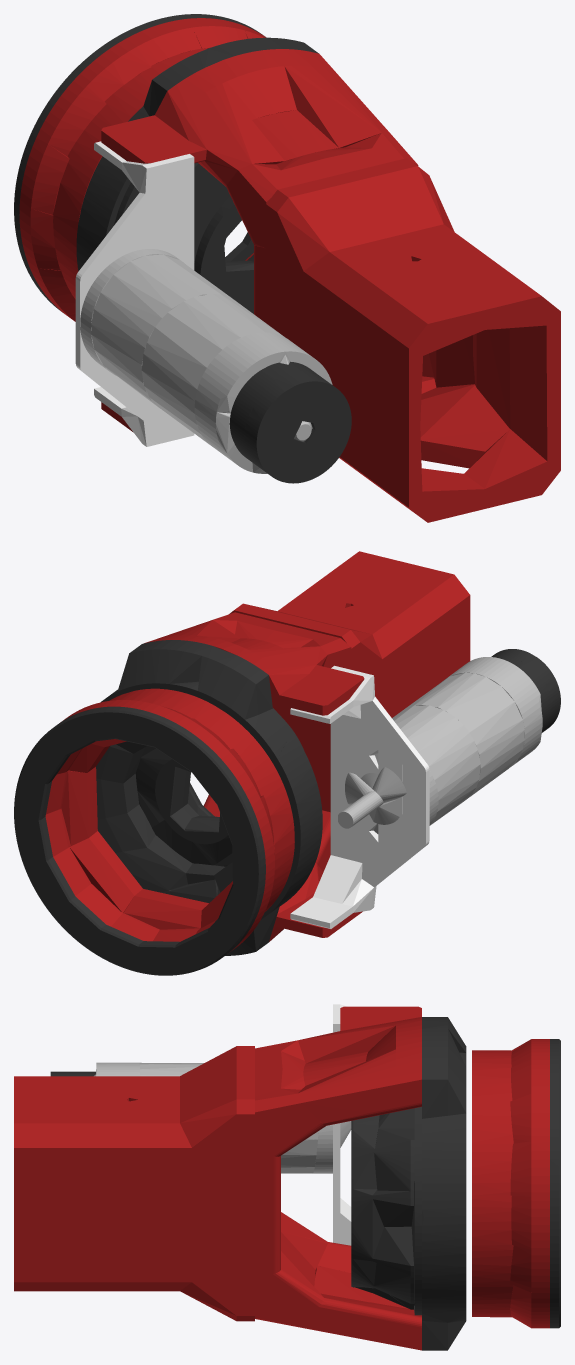
File: HEAD_LINK0_mesh.dae
3 views of the same model, one above another, from view 1: azimuth 30°, elevation 25°; view 2: azimuth 150°, elevation 25°; view 3: azimuth 270°, elevation 25° (orthographic). The views are drawn at different scales.
Visible parts, largest first — view 1: HEAD_LINK0 (×10); view 2: HEAD_LINK0 (×9); view 3: HEAD_LINK0 (×9).
Boxes of the visible parts, <box> form: HEAD_LINK0 (×10): <box>14,14,560,522</box>; HEAD_LINK0 (×9): <box>14,551,560,975</box>; HEAD_LINK0 (×9): <box>14,1004,560,1350</box>.
Size of the model in its own units: 0.0958 by 0.09 by 0.1475.
